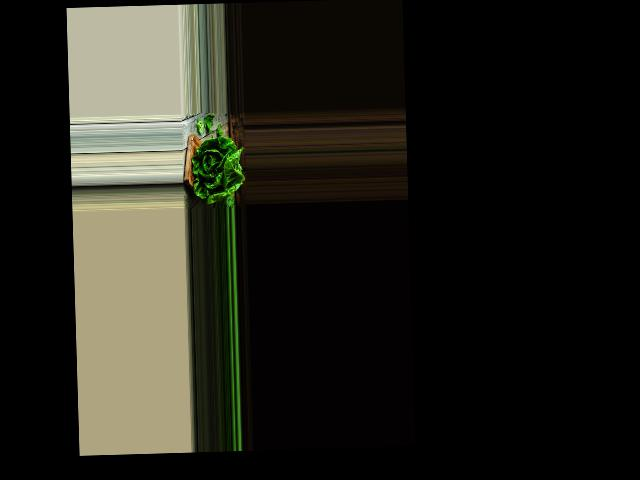lettuce: (188, 139, 244, 206)
